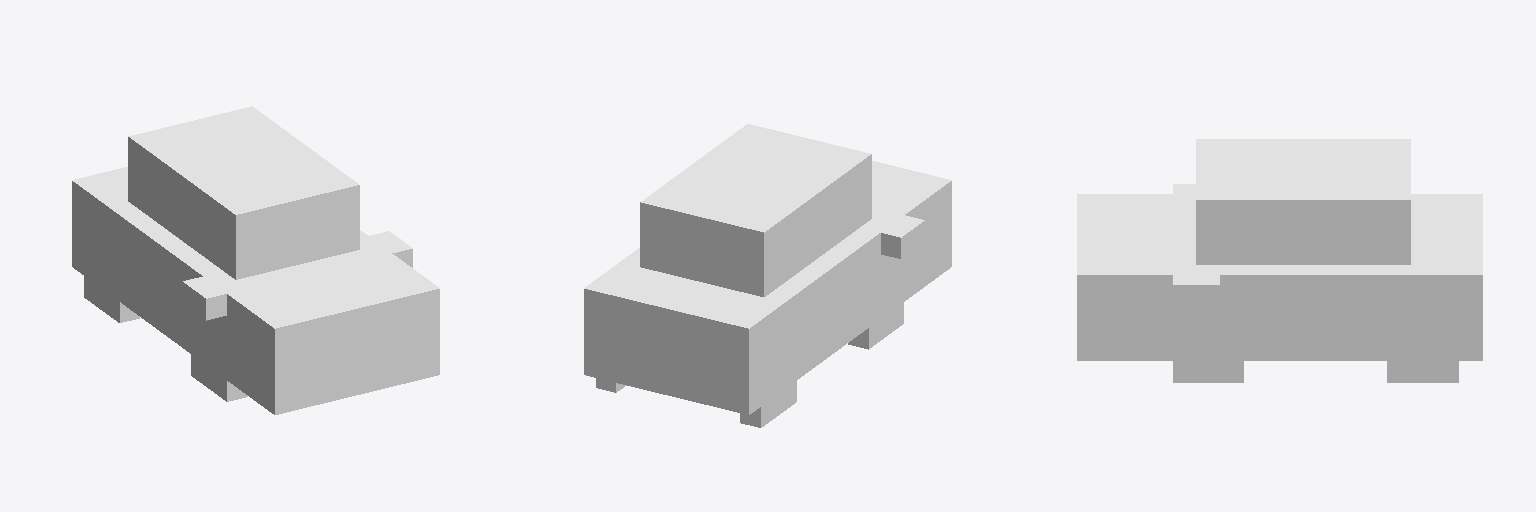
Rendered from CrossyCar04.obj.
3 views of the same model, side by side, from view 1: azimuth 30°, elevation 25°; view 2: azimuth 150°, elevation 25°; view 3: azimuth 270°, elevation 25° (orthographic).
Visible parts, largest first — view 1: object 1; view 2: object 1; view 3: object 1.
Part boxes in pixels (left/top/right/bottom): object 1: left=72, top=106, right=439, bottom=414; object 1: left=584, top=124, right=951, bottom=427; object 1: left=1077, top=139, right=1482, bottom=382.
Size of the model in its own units: 1 by 0.8 by 1.7.